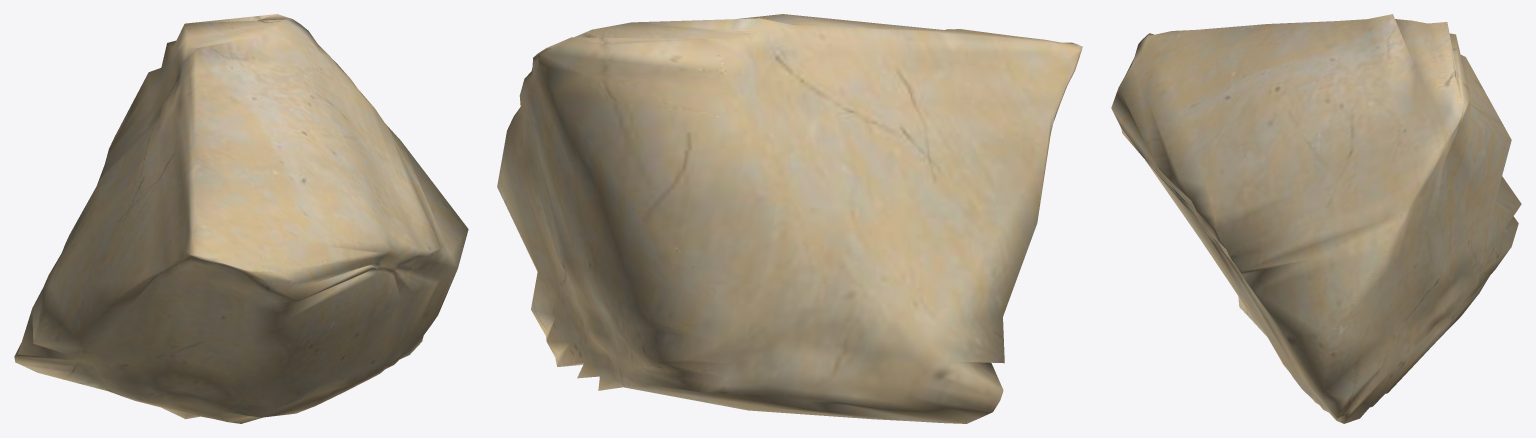
The model's file is lo_fall_l.glb.
The picture shows the model from 3 angles, left to right: view 1: azimuth 30°, elevation 25°; view 2: azimuth 150°, elevation 25°; view 3: azimuth 270°, elevation 25°; orthographic projection. The views are drawn at different scales.
Parts seen in each view (by area): view 1: lo_fall_l; view 2: lo_fall_l; view 3: lo_fall_l.
Part boxes in pixels (bbox=[...]): lo_fall_l: bbox=[14, 14, 468, 423]; lo_fall_l: bbox=[497, 14, 1082, 423]; lo_fall_l: bbox=[1111, 14, 1521, 423].
Bounding box in the file's own units: 1.91 × 1.43 × 1.64.
1 material, 1 textured.
